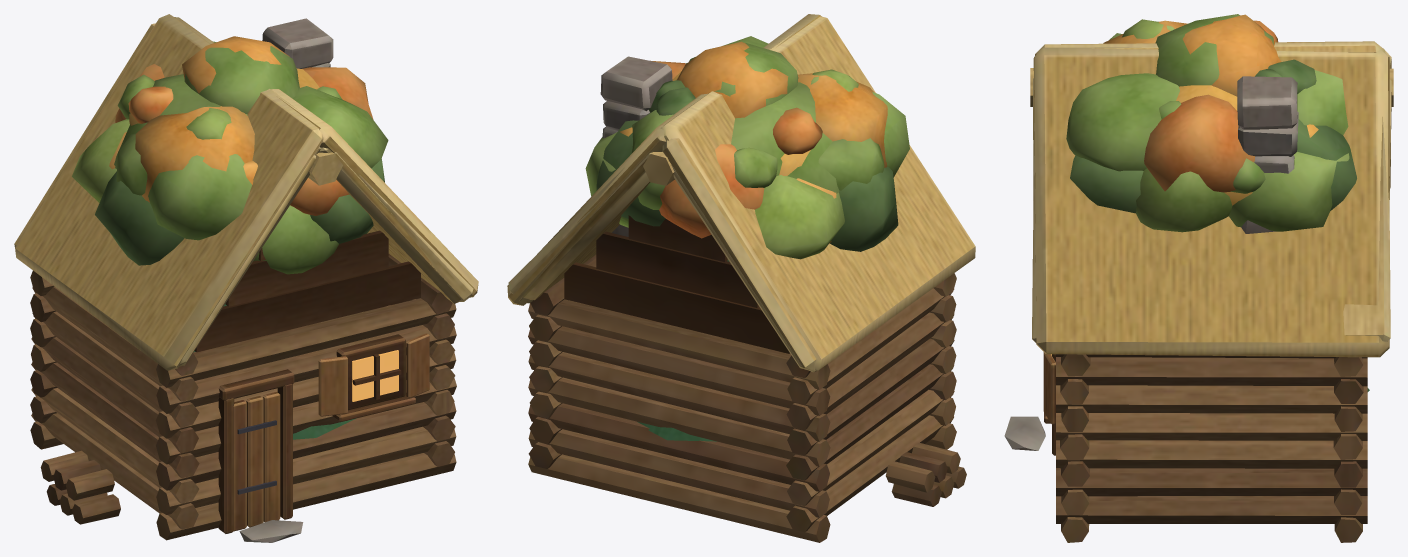
Rendered from env-thorn-path.hq.glb.
3 views of the same model, side by side, from view 1: azimuth 30°, elevation 25°; view 2: azimuth 150°, elevation 25°; view 3: azimuth 270°, elevation 25° (orthographic). The views are drawn at different scales.
Parts seen in each view (by area): view 1: hut, tree-green, tree; view 2: hut, tree-green, tree, pine; view 3: hut, tree, tree-green.
Boxes of the visible parts, x1,y1,x2,y2 form: hut: (14,14,478,542); tree-green: (72,41,384,274); tree: (109,36,388,215); hut: (507,14,975,542); tree-green: (596,43,909,259); tree: (585,36,887,243); pine: (637,260,728,441); hut: (1004,41,1393,542); tree: (1066,14,1349,231); tree-green: (1070,14,1356,232).
Bounding box in the file's own units: 2.74 × 3.22 × 2.42.
2 materials, 2 textured.
